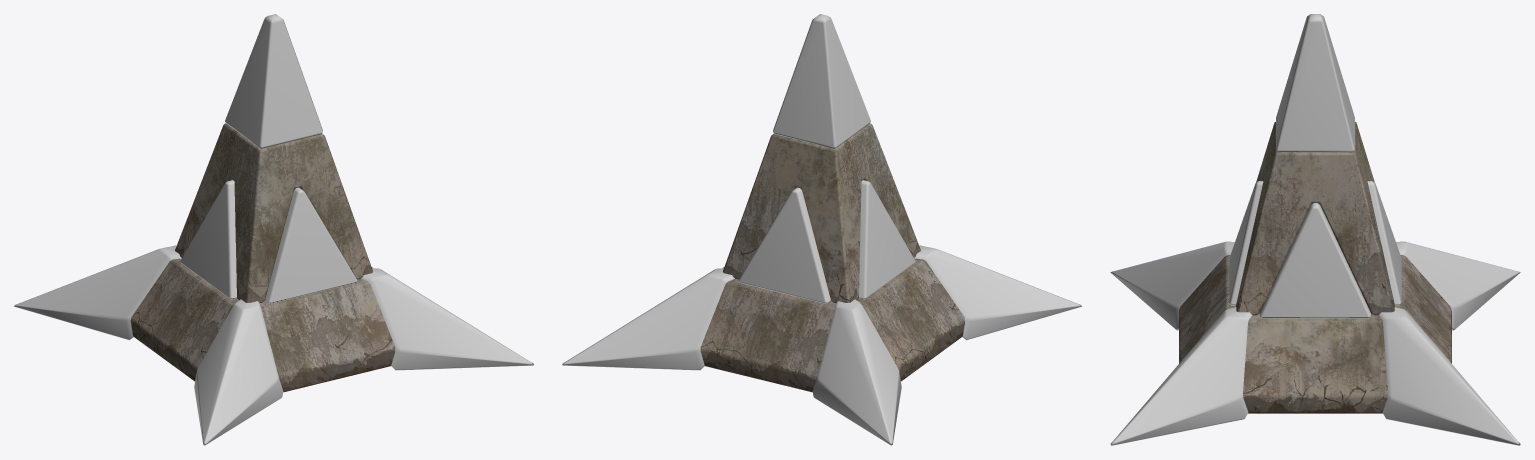
3 renders of one model, left to right at view 1: azimuth 30°, elevation 25°; view 2: azimuth 150°, elevation 25°; view 3: azimuth 270°, elevation 25°, orthographic. The views are drawn at different scales.
Visible parts, largest first — view 1: SM_Flamethrower_Trap_01_LOD0; view 2: SM_Flamethrower_Trap_01_LOD0; view 3: SM_Flamethrower_Trap_01_LOD0.
Part boxes in pixels (box(x1,y1,x2,y2)): SM_Flamethrower_Trap_01_LOD0: box(14, 14, 533, 445); SM_Flamethrower_Trap_01_LOD0: box(562, 14, 1081, 445); SM_Flamethrower_Trap_01_LOD0: box(1110, 14, 1520, 445).
Bounding box in the file's own units: 0.5615 × 0.5228 × 0.5615.
